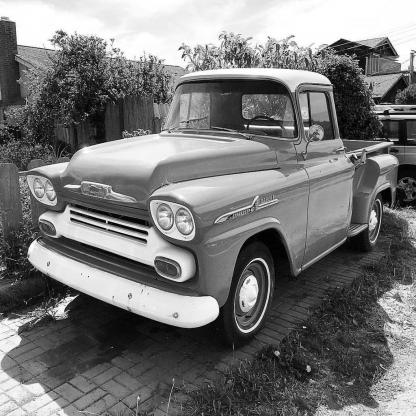Car: (26, 69, 400, 349), (369, 102, 415, 209)
Truck: (25, 68, 400, 347)
